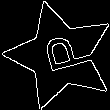P_W: (29, 30, 91, 81)
